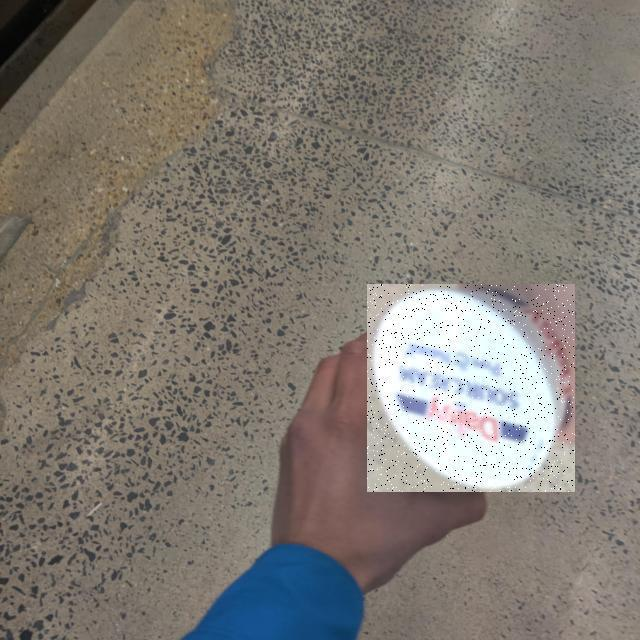Yoghurt: (367, 284, 575, 492)
